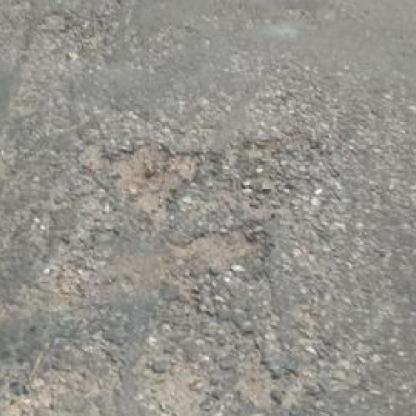pothole: (108, 141, 200, 220), (181, 224, 268, 271)
